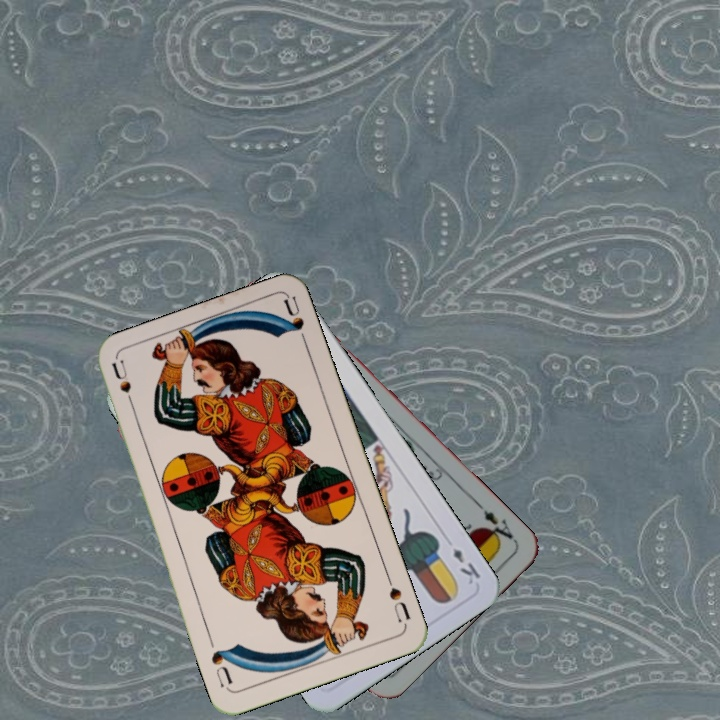EA: (472, 498, 518, 547)
EK: (449, 544, 484, 587)
SU: (108, 357, 139, 416), (382, 570, 413, 625)
